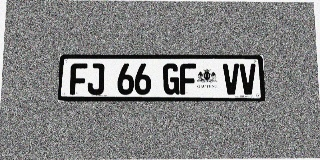6: (117, 63, 134, 95), (134, 63, 151, 95)
F: (70, 63, 87, 95), (180, 63, 196, 95)
G: (163, 63, 179, 95)
J: (87, 63, 104, 95)
V: (223, 64, 240, 95), (239, 64, 256, 95)
